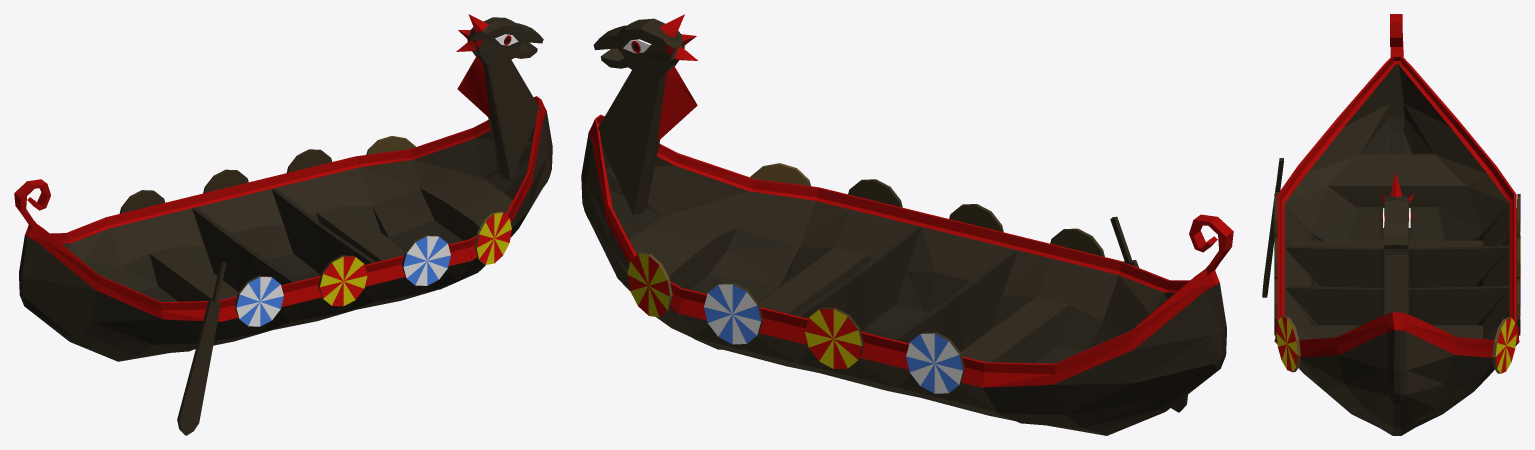
File: Ship_02.fbx
3 views of the same model, side by side, from view 1: azimuth 30°, elevation 25°; view 2: azimuth 150°, elevation 25°; view 3: azimuth 270°, elevation 25° (orthographic). The views are drawn at different scales.
Parts seen in each view (by area): view 1: Ship_02, Rudder; view 2: Ship_02; view 3: Ship_02, Rudder.
Part boxes in pixels (x1,y1,x2,y2): Ship_02: [14, 14, 552, 361]; Rudder: [177, 262, 226, 435]; Ship_02: [581, 14, 1233, 435]; Ship_02: [1274, 14, 1520, 435]; Rudder: [1262, 158, 1283, 297].
Bounding box in the file's own units: 2431 × 1264 × 981.
